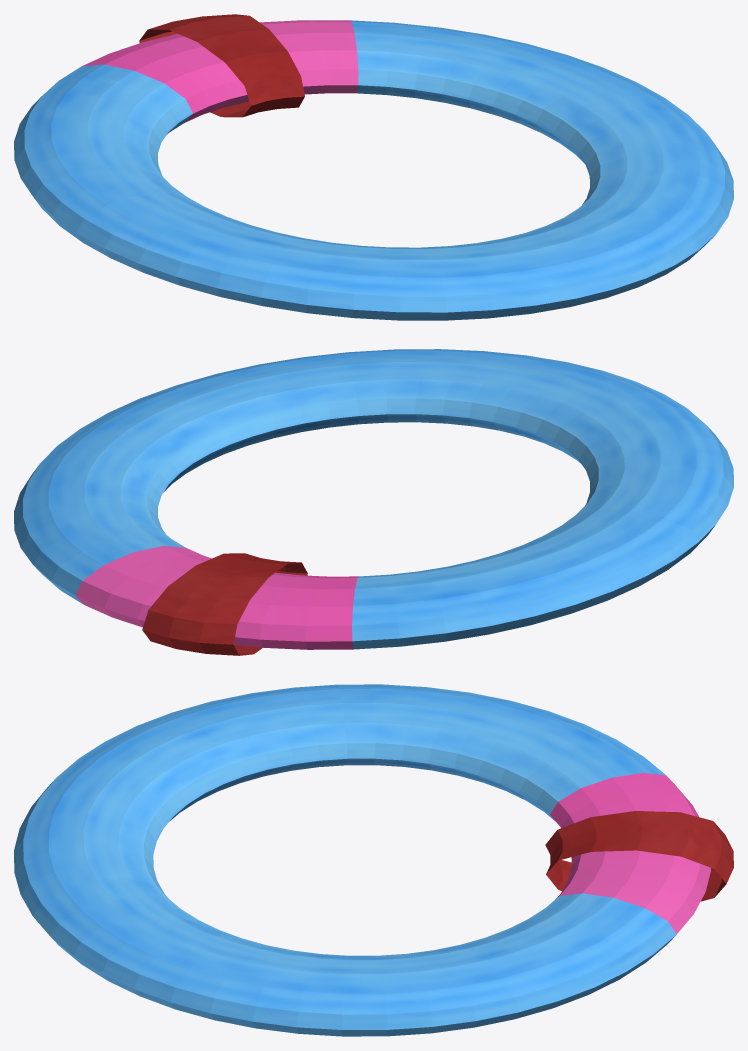
File: Minigame.fbx
3 renders of one model, top to bottom at view 1: azimuth 30°, elevation 25°; view 2: azimuth 150°, elevation 25°; view 3: azimuth 270°, elevation 25°, orthographic. The views are drawn at different scales.
Parts seen in each view (by area): view 1: Torus, Torus.003; view 2: Torus, Torus.003; view 3: Torus, Torus.003.
Boxes of the visible parts, left/top/right/bottom form: Torus: left=14, top=20, right=733, bottom=320; Torus.003: left=139, top=14, right=304, bottom=117; Torus: left=14, top=349, right=733, bottom=649; Torus.003: left=142, top=553, right=307, bottom=655; Torus: left=14, top=684, right=710, bottom=1036; Torus.003: left=545, top=811, right=733, bottom=901.
Bounding box in the file's own units: 119 × 15.46 × 123.
